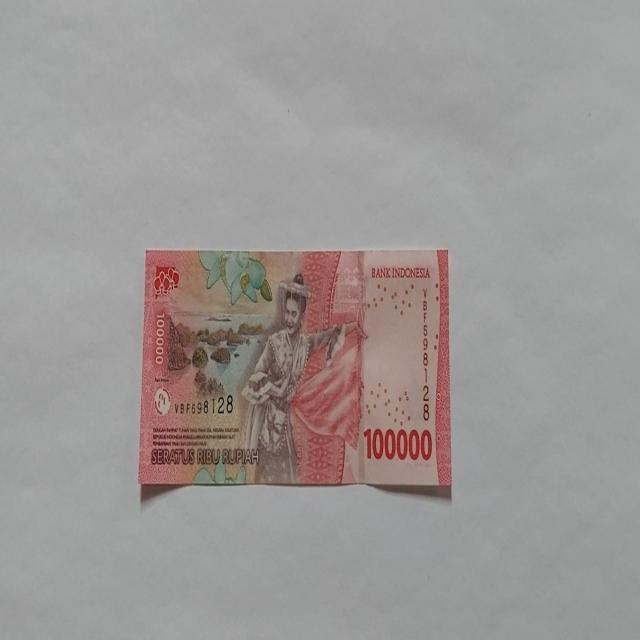seratus ribu rupiah: (138, 247, 452, 493), (240, 272, 345, 484)
